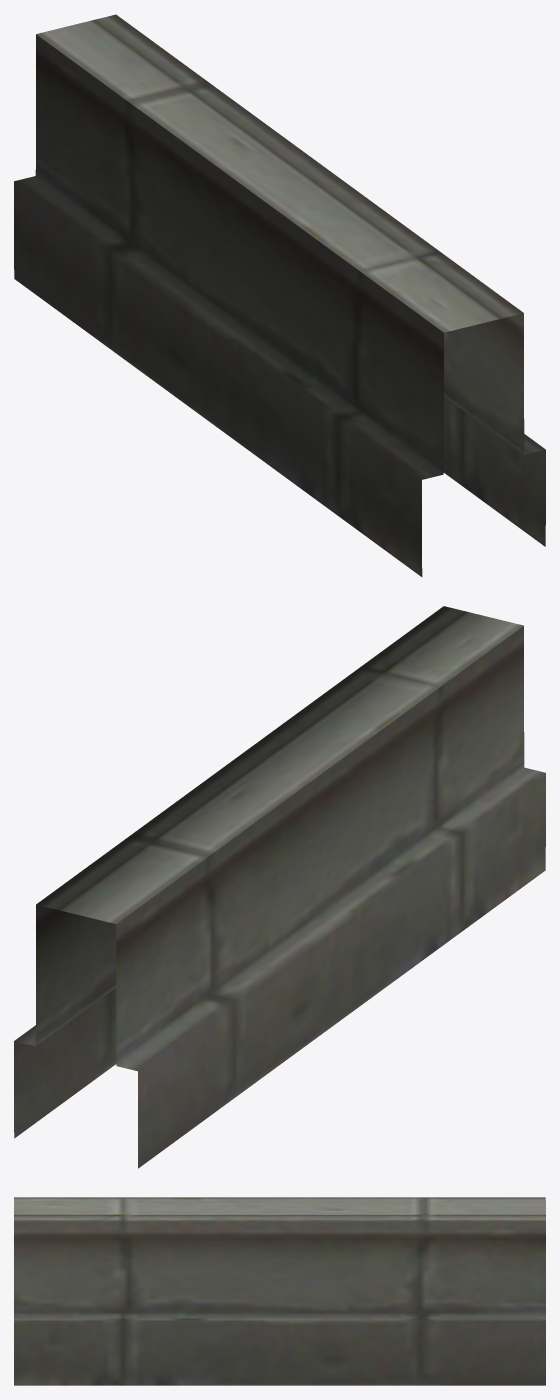
Rendered from City_bujian_31.fbx.
3 renders of one model, top to bottom at view 1: azimuth 30°, elevation 25°; view 2: azimuth 150°, elevation 25°; view 3: azimuth 270°, elevation 25°, orthographic. The views are drawn at different scales.
Parts seen in each view (by area): view 1: City_1_2017_3_7_2:City_1_2017_3_7_2:polySurface4198; view 2: City_1_2017_3_7_2:City_1_2017_3_7_2:polySurface4198; view 3: City_1_2017_3_7_2:City_1_2017_3_7_2:polySurface4198.
Boxes of the visible parts, bbox=[...] form: City_1_2017_3_7_2:City_1_2017_3_7_2:polySurface4198: bbox=[14, 14, 545, 576]; City_1_2017_3_7_2:City_1_2017_3_7_2:polySurface4198: bbox=[14, 606, 545, 1168]; City_1_2017_3_7_2:City_1_2017_3_7_2:polySurface4198: bbox=[14, 1197, 545, 1385].
Bounding box in the file's own units: 0.7612 × 1.4 × 4.34.
